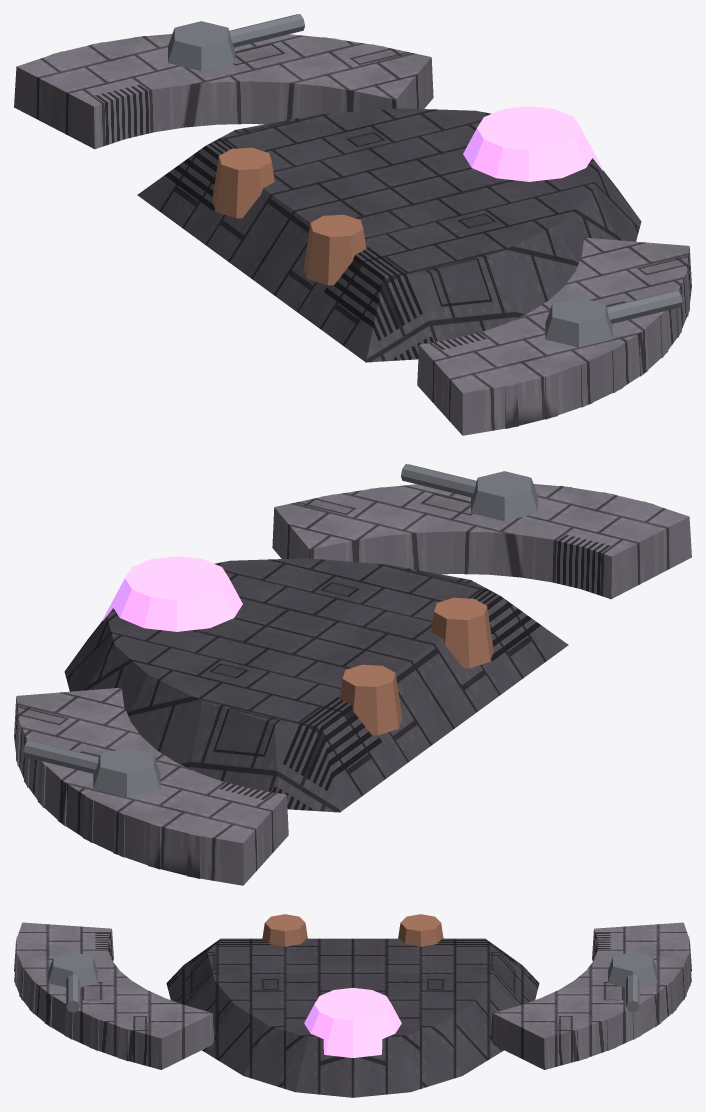
File: furnace_iris.glb
The picture shows the model from 3 angles, top to bottom: view 1: azimuth 30°, elevation 25°; view 2: azimuth 150°, elevation 25°; view 3: azimuth 270°, elevation 25°; orthographic projection. The views are drawn at different scales.
Bounding box in the file's own units: 38.33 × 8 × 79.95.
7 materials, 3 textured.
